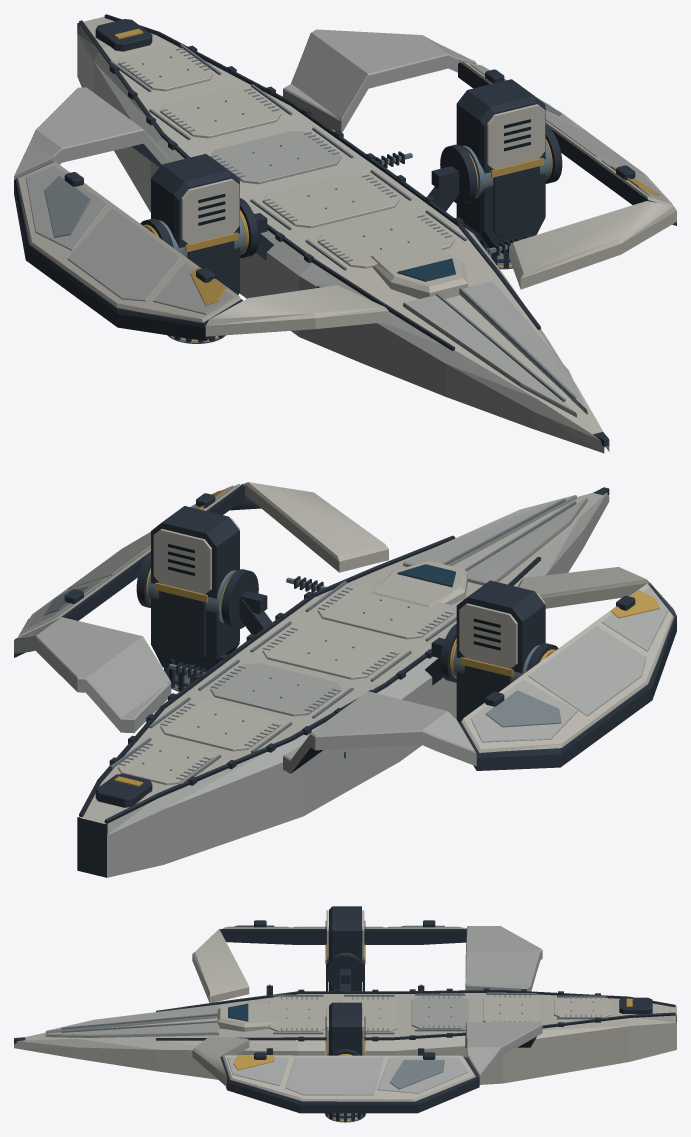
File: shuttle_02_d0_lod0.glb
3 views of the same model, one above another, from view 1: azimuth 30°, elevation 25°; view 2: azimuth 150°, elevation 25°; view 3: azimuth 270°, elevation 25° (orthographic). The views are drawn at different scales.
Parts seen in each view (by area): view 1: HULL, THRUSTER_R_SURFACE, THRUSTER_L_SURFACE, CANOPY; view 2: HULL, THRUSTER_R_SURFACE, THRUSTER_L_SURFACE, CANOPY; view 3: HULL, THRUSTER_R_SURFACE, THRUSTER_L_SURFACE.
Boxes of the visible parts, x1,y1,x2,y2 form: HULL: (14, 14, 676, 453); THRUSTER_R_SURFACE: (456, 79, 552, 269); THRUSTER_L_SURFACE: (151, 154, 247, 343); CANOPY: (397, 258, 455, 281); HULL: (14, 482, 676, 877); THRUSTER_R_SURFACE: (146, 506, 239, 691); THRUSTER_L_SURFACE: (451, 580, 545, 723); CANOPY: (397, 564, 455, 587); HULL: (14, 920, 676, 1113); THRUSTER_R_SURFACE: (324, 1002, 366, 1122); THRUSTER_L_SURFACE: (325, 906, 365, 991).
Size of the model in its own units: 25.2 by 7.65 by 42.
